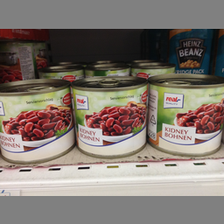beans: (71, 76, 149, 157), (151, 73, 224, 158), (1, 78, 71, 165)
